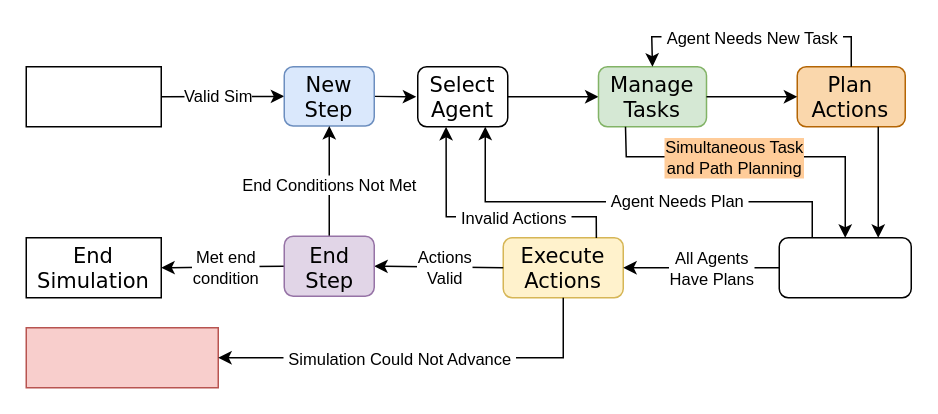
The diagram is 938 pixels wide and 414 high, and some of its shapes have lost their labels. The centre of each missing label's shape, as x and y in pixels:
"Check Agent Queue" goes at point 844,267.
"New Simulation" goes at point 93,96.
"Simulation Crash" goes at point 121,357.
